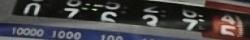digits: (179, 5, 203, 33), (219, 14, 243, 37), (142, 2, 161, 30), (60, 0, 82, 21), (97, 1, 117, 23), (22, 2, 40, 15)
